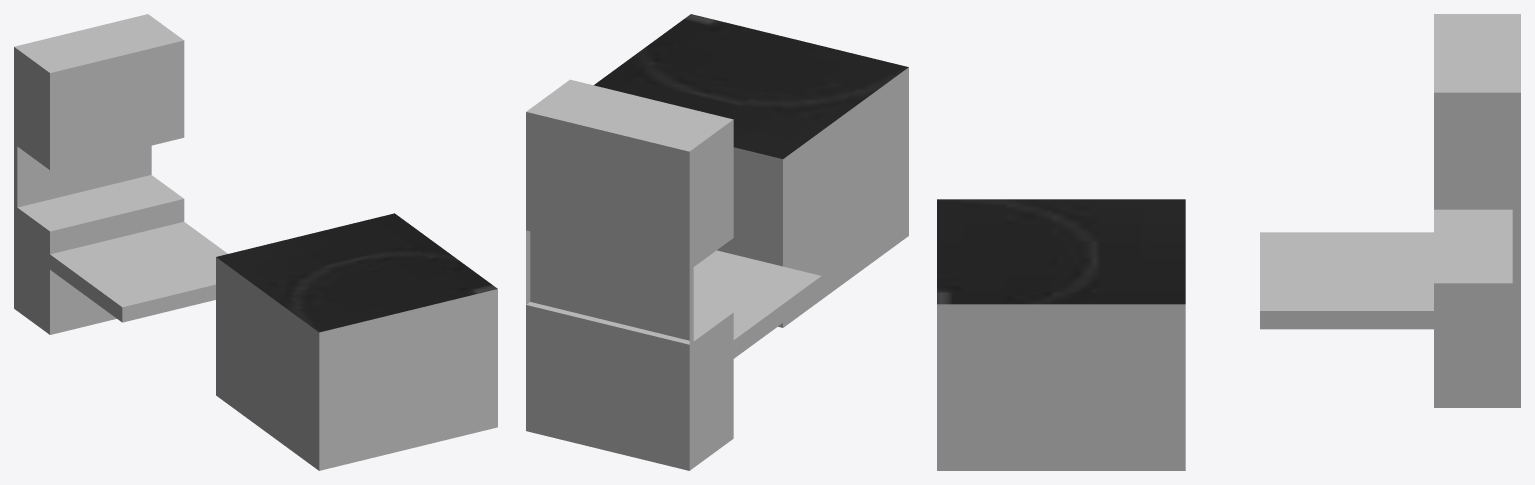
File: meuble.fbx
3 renders of one model, left to right at view 1: azimuth 30°, elevation 25°; view 2: azimuth 150°, elevation 25°; view 3: azimuth 270°, elevation 25°, orthographic. The views are drawn at different scales.
Parts seen in each view (by area): view 1: Cube, Cube.001; view 2: Cube.001, Cube; view 3: Cube, Cube.001.
Part boxes in pixels (bbox=[...]): Cube: bbox=[216, 213, 497, 470]; Cube.001: bbox=[14, 14, 227, 334]; Cube.001: bbox=[526, 79, 821, 470]; Cube: bbox=[594, 14, 908, 327]; Cube: bbox=[937, 199, 1185, 470]; Cube.001: bbox=[1260, 14, 1520, 407].
Size of the model in its own units: 270 by 280 by 470.
